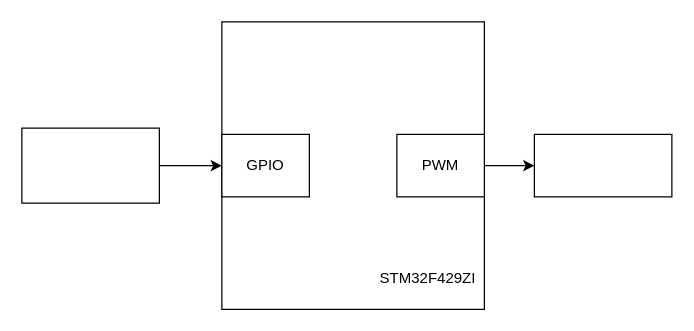
The diagram is 694 pixels wide and 331 high, and some of its shapes have lost their labels. Here are the shapes that lost their labels. From the top down, the box of each, then its label:
(21, 127, 159, 203): Push Button
(533, 133, 672, 197): LED Array
